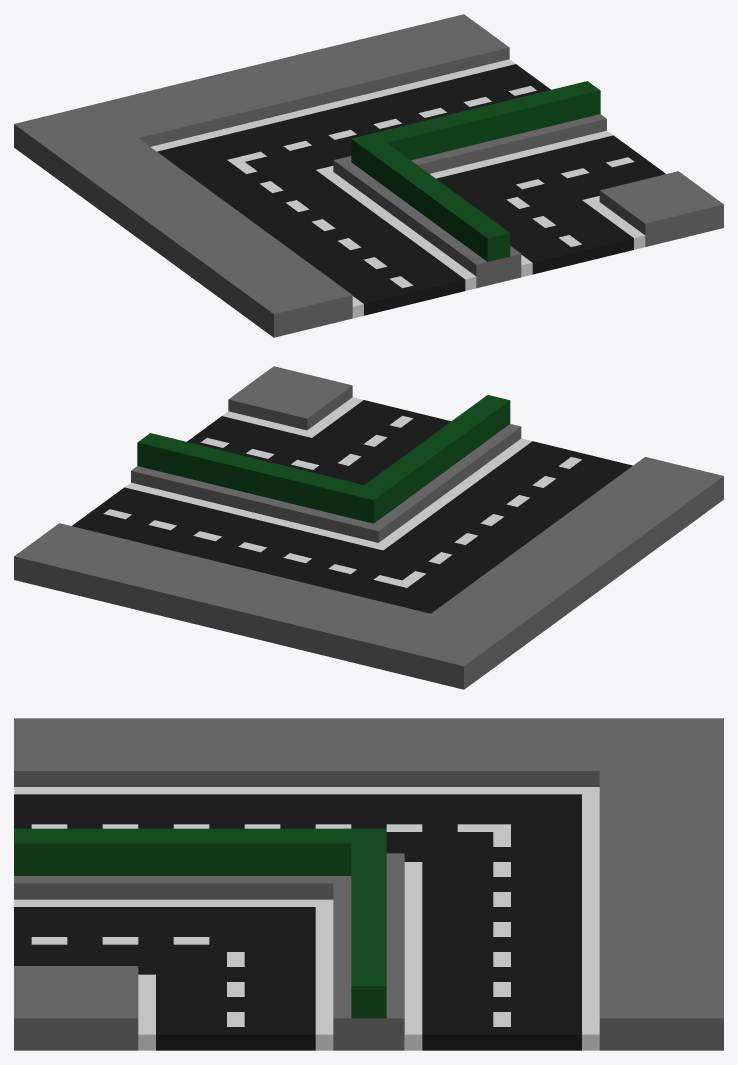
The model's file is RoadCurve01.fbx.
3 renders of one model, top to bottom at view 1: azimuth 30°, elevation 25°; view 2: azimuth 150°, elevation 25°; view 3: azimuth 270°, elevation 25°, orthographic. The views are drawn at different scales.
Visible parts, largest first — view 1: ObjObject.001; view 2: ObjObject.001; view 3: ObjObject.001.
Boxes of the visible parts, x1,y1,x2,y2 form: ObjObject.001: (14,14,723,337); ObjObject.001: (14,366,723,689); ObjObject.001: (14,718,723,1050).
Bounding box in the file's own units: 400 × 400 × 40.
Materials: 1 (1 with a texture image).
